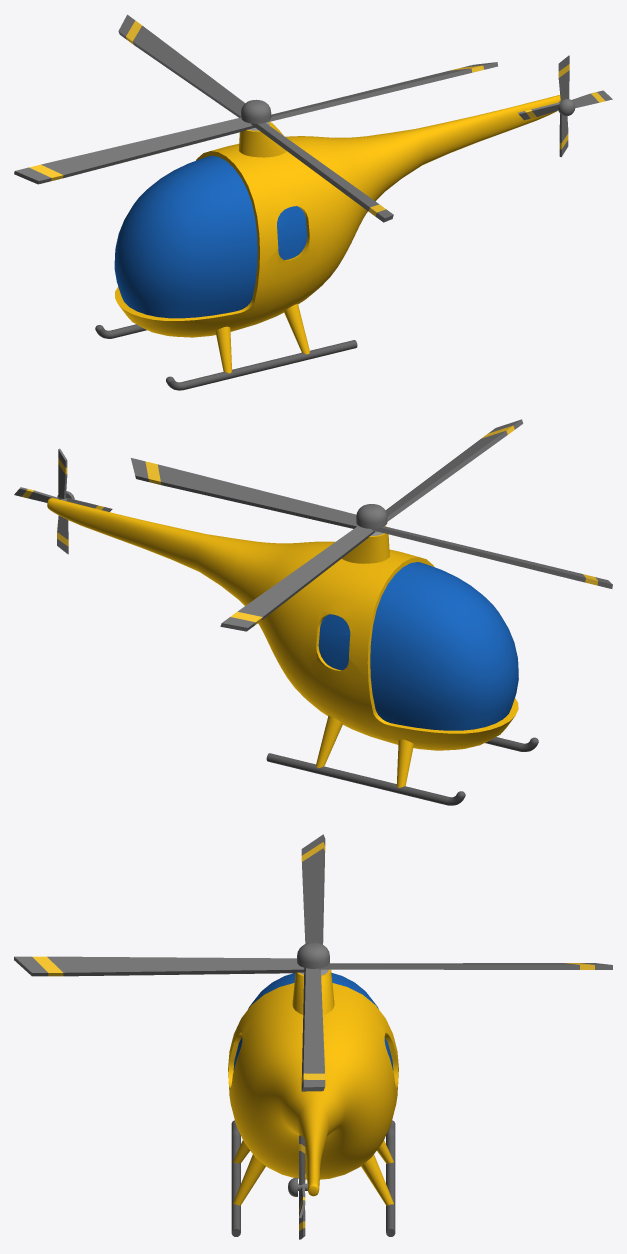
File: helicopter.fbx
3 renders of one model, top to bottom at view 1: azimuth 30°, elevation 25°; view 2: azimuth 150°, elevation 25°; view 3: azimuth 270°, elevation 25°, orthographic. The views are drawn at different scales.
Parts seen in each view (by area): view 1: Cube.854; view 2: Cube.854; view 3: Cube.854.
Boxes of the visible parts, x1=… form: Cube.854: x1=14, y1=14, x2=612, y2=390; Cube.854: x1=14, y1=419, x2=612, y2=805; Cube.854: x1=14, y1=834, x2=612, y2=1239.
Size of the model in its own units: 243 by 93.08 by 196.
Materials: 1 (1 with a texture image).
